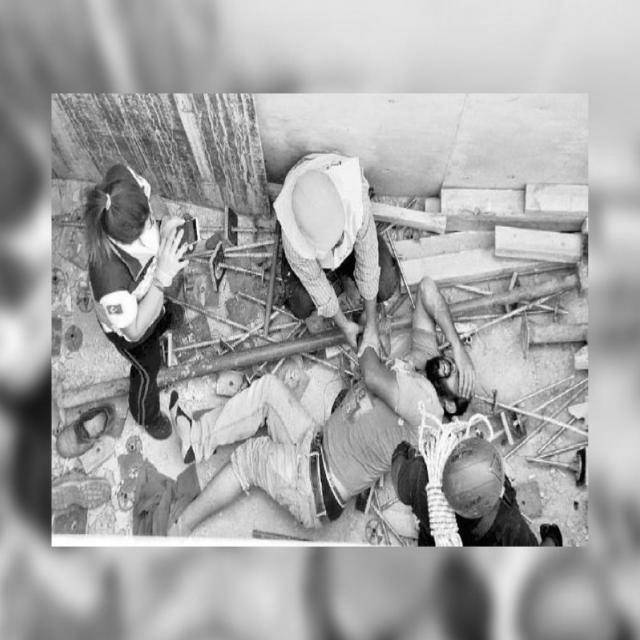construction helmet: (439, 435, 509, 525), (291, 169, 349, 260)
